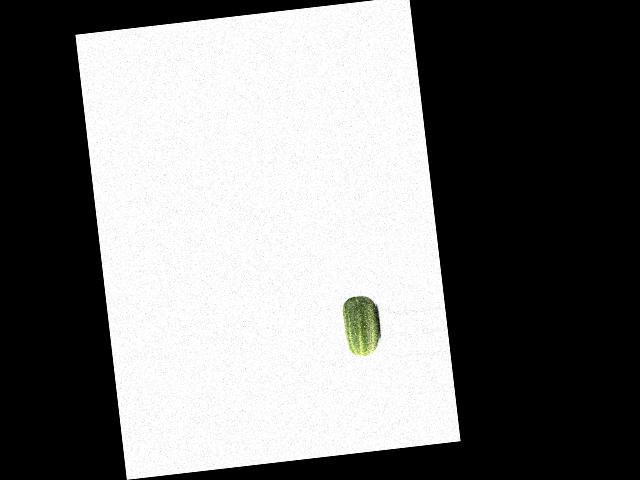cucumber: (341, 293, 382, 357)
